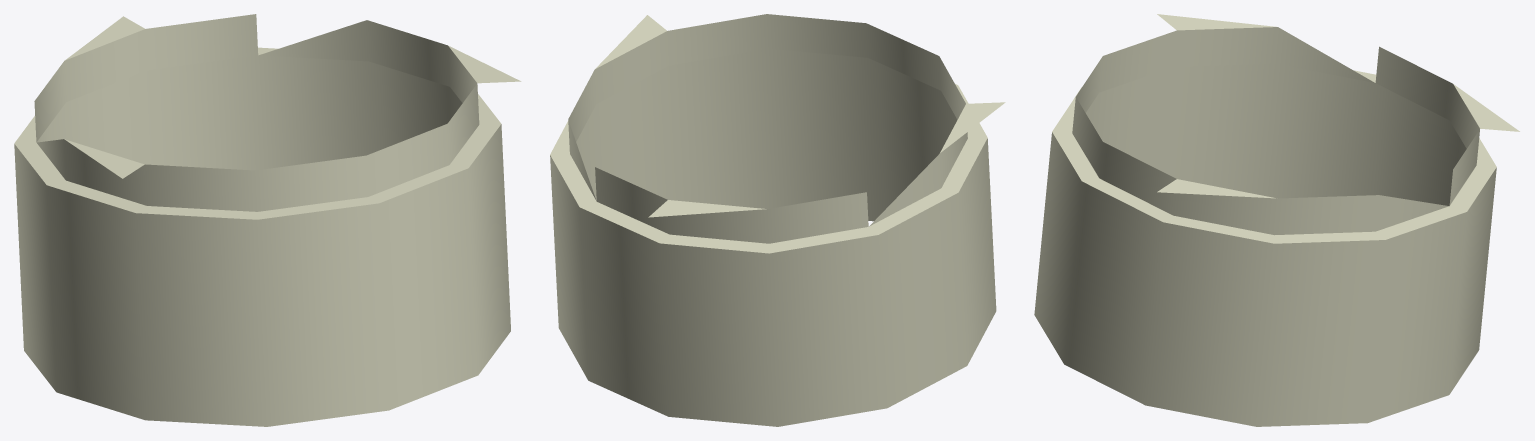
The picture shows the model from 3 angles, left to right: view 1: azimuth 30°, elevation 25°; view 2: azimuth 150°, elevation 25°; view 3: azimuth 270°, elevation 25°; orthographic projection. The views are drawn at different scales.
Bounding box in the file's own units: 0.0845 × 0.0529 × 0.092.
